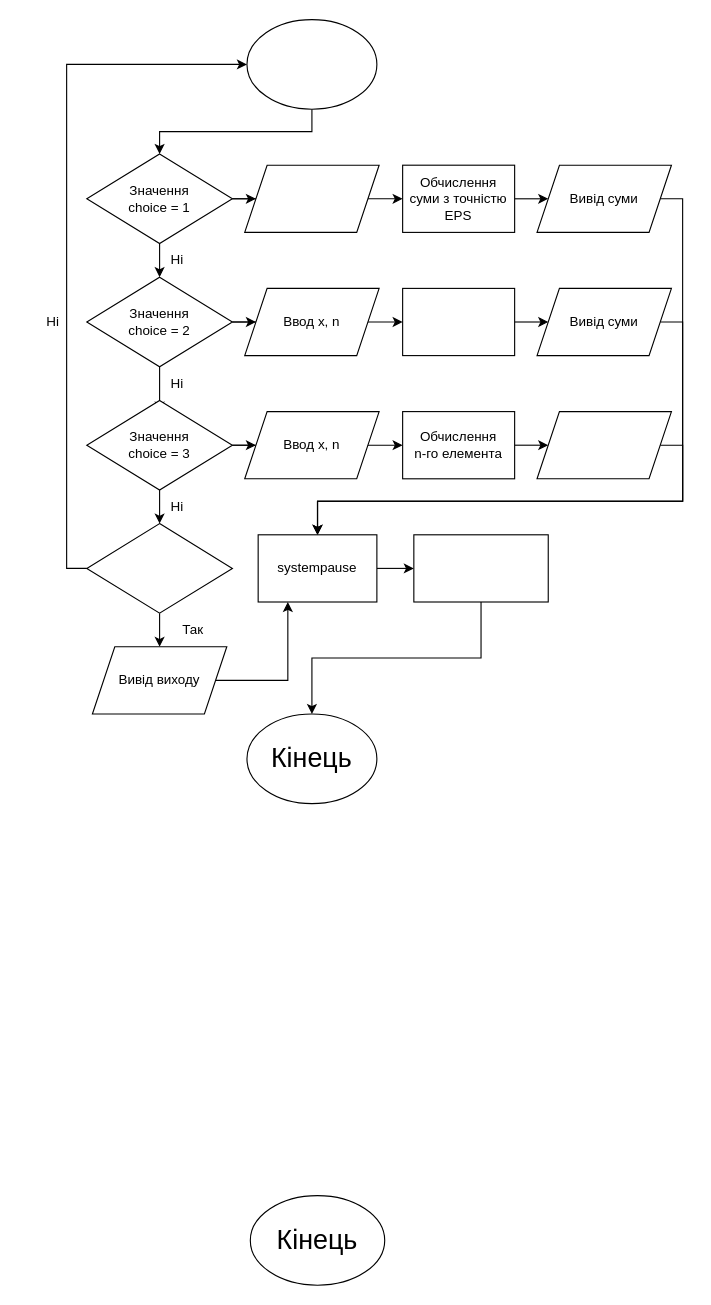
Some shapes in this 711 by 1305 pixel diagram are drawn without their labels. The box of each missing label's shape, as (x1, y1, x2, y2) in pixels:
systemcls: (413, 534, 548, 602)
Ввод x: (244, 164, 379, 232)
Вивід n-го елемента: (536, 410, 671, 479)
Значення choice = 0: (86, 522, 232, 613)
Обчислення суми n-елементів: (402, 287, 515, 356)
Початок: (246, 18, 377, 109)
